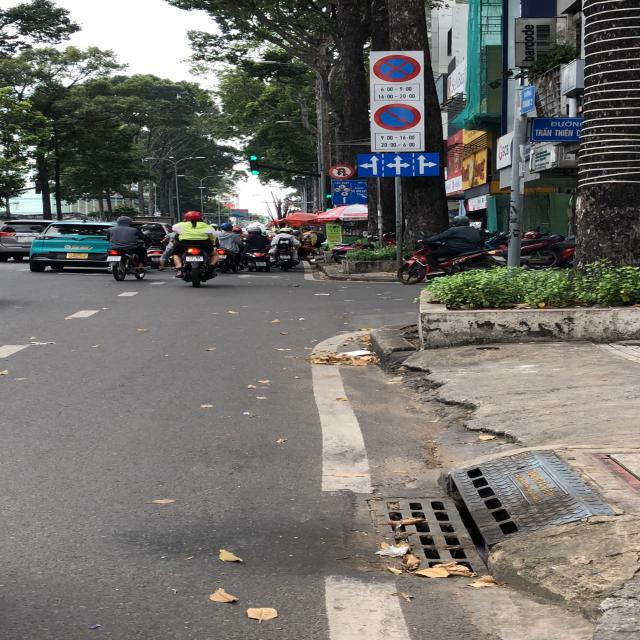Bien bao cam do xe: (371, 100, 428, 132)
Bien bao cam dung xe va do xe: (368, 52, 424, 84)
Bien bao cam quay dau xe: (328, 163, 355, 180)
